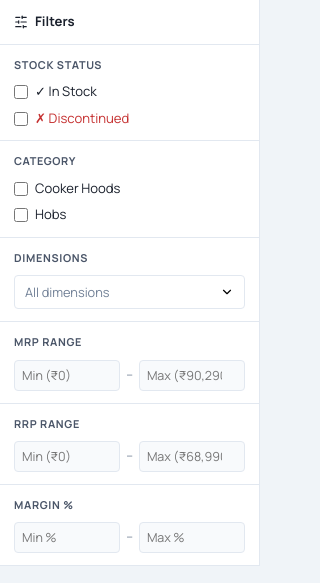
it: FilterSidebar › shows no results message when search matches nothing
Step 1. Click the button "All dimensions" → coordinates (130, 292), box [14,275,245,309]
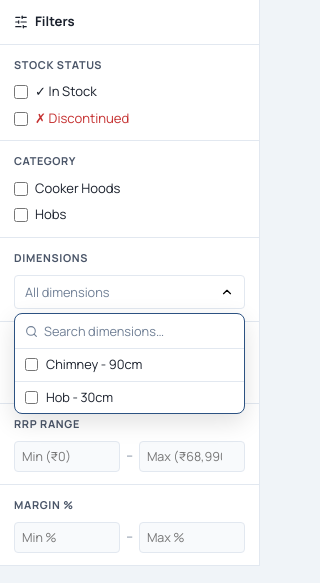
Step 2. Type "xyz" into the field with placeholder "Search dimensions…" → coordinates (139, 331), box [44,322,234,340]
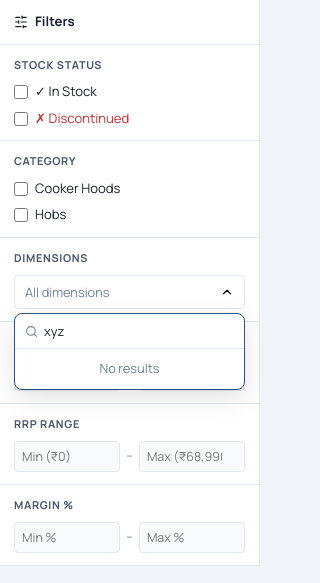
Check: the text "No results" is shown, box [100,359,160,377]
